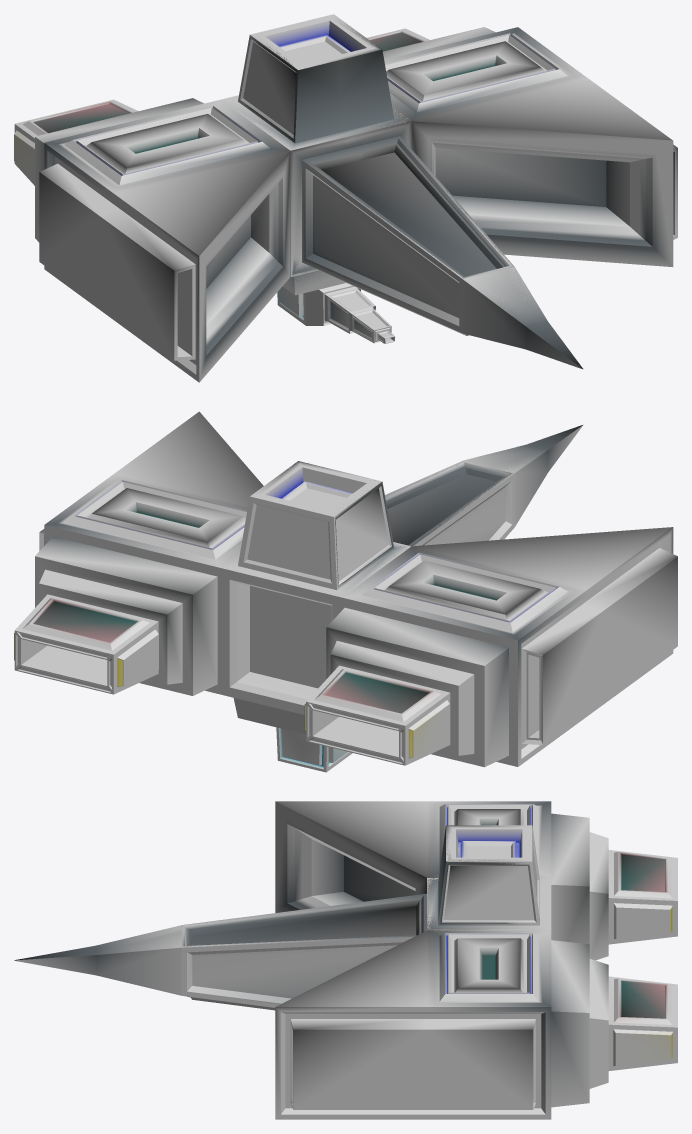
The model's file is FighterShip01.fbx.
3 renders of one model, top to bottom at view 1: azimuth 30°, elevation 25°; view 2: azimuth 150°, elevation 25°; view 3: azimuth 270°, elevation 25°, orthographic. The views are drawn at different scales.
Parts seen in each view (by area): view 1: Cube; view 2: Cube; view 3: Cube.
Boxes of the visible parts, x1,y1,x2,y2 form: Cube: (14,14,677,382); Cube: (14,411,677,772); Cube: (14,801,677,1119).
Bounding box in the file's own units: 832 × 422 × 1068.
